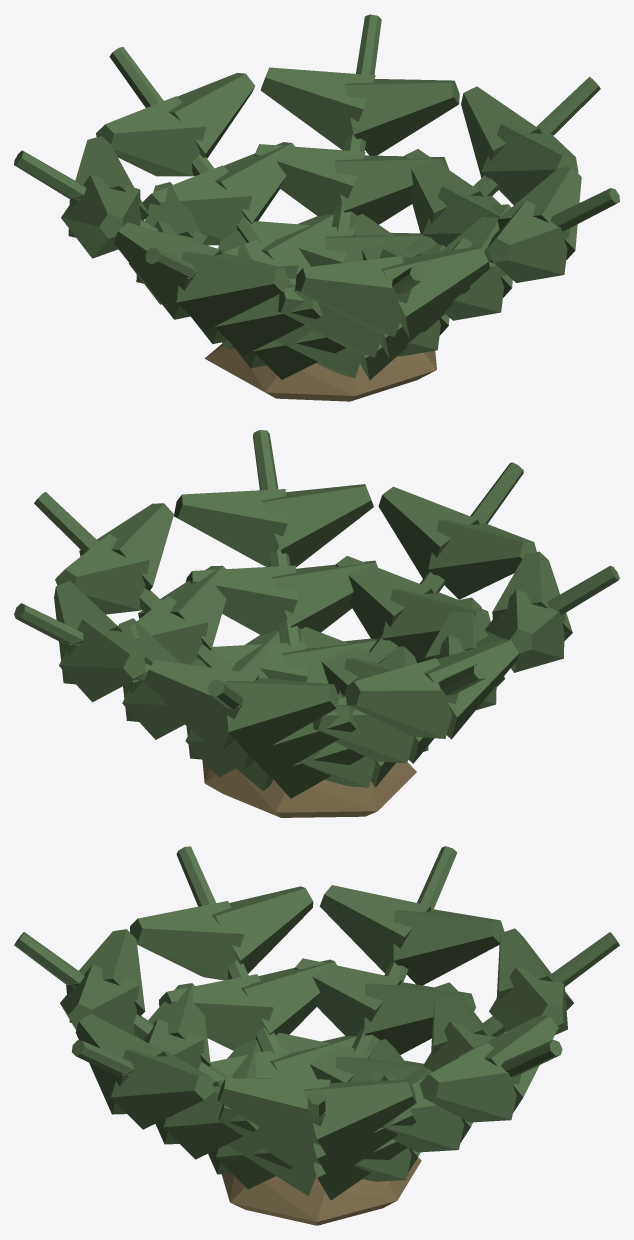
File: ground-fern.glb
3 views of the same model, one above another, from view 1: azimuth 30°, elevation 25°; view 2: azimuth 150°, elevation 25°; view 3: azimuth 270°, elevation 25° (orthographic).
Parts seen in each view (by area): view 1: ground-fern__body; view 2: ground-fern__body; view 3: ground-fern__body.
Part boxes in pixels (box(x1,y1,x2,y2)): ground-fern__body: box(14, 14, 619, 401); ground-fern__body: box(14, 430, 619, 817); ground-fern__body: box(14, 846, 619, 1225).
Bounding box in the file's own units: 0.6194 × 0.2573 × 0.6345.
